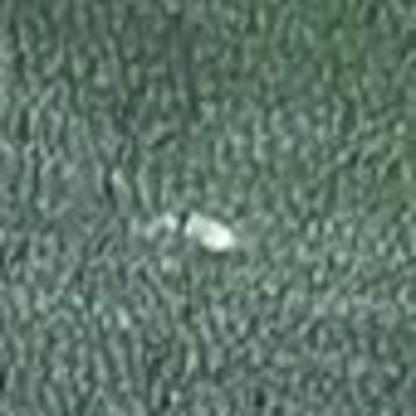ship: (160, 201, 246, 260)
